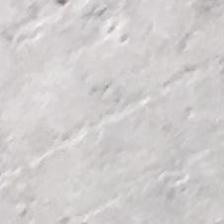Non_Crack: (32, 35, 224, 194)
